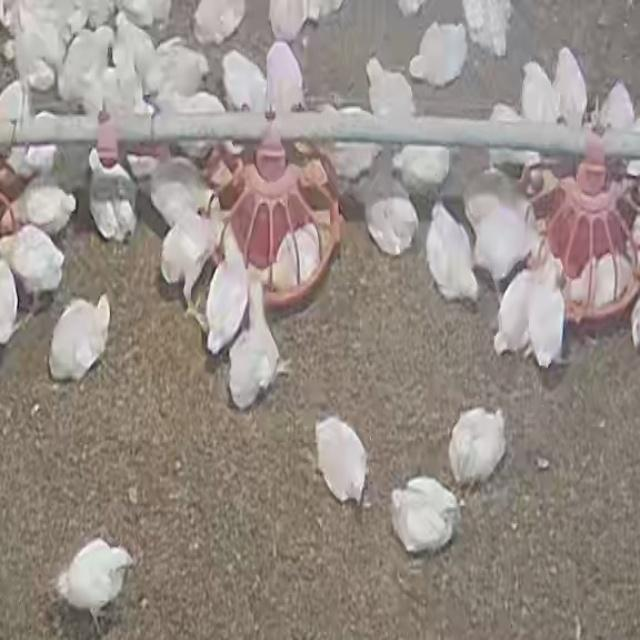chicken: (227, 279, 280, 409), (52, 538, 132, 622), (159, 213, 218, 313), (1, 222, 66, 312), (468, 197, 530, 289), (146, 154, 215, 236), (49, 296, 112, 384), (206, 224, 248, 355), (425, 205, 479, 304), (388, 479, 456, 555), (88, 143, 138, 239), (312, 421, 368, 506), (450, 406, 507, 488), (492, 268, 540, 358), (528, 263, 568, 369), (260, 222, 322, 290), (360, 180, 416, 254), (58, 26, 114, 100), (13, 178, 78, 239), (407, 21, 466, 88), (364, 56, 416, 123), (567, 255, 633, 306), (220, 49, 268, 119), (150, 40, 208, 94), (551, 46, 588, 127), (520, 58, 562, 129), (114, 16, 154, 89), (463, 0, 510, 59), (391, 142, 451, 188), (266, 42, 304, 114), (191, 0, 247, 47), (328, 137, 378, 185), (598, 78, 636, 132), (0, 256, 22, 347), (270, 0, 306, 43), (566, 264, 592, 306)
